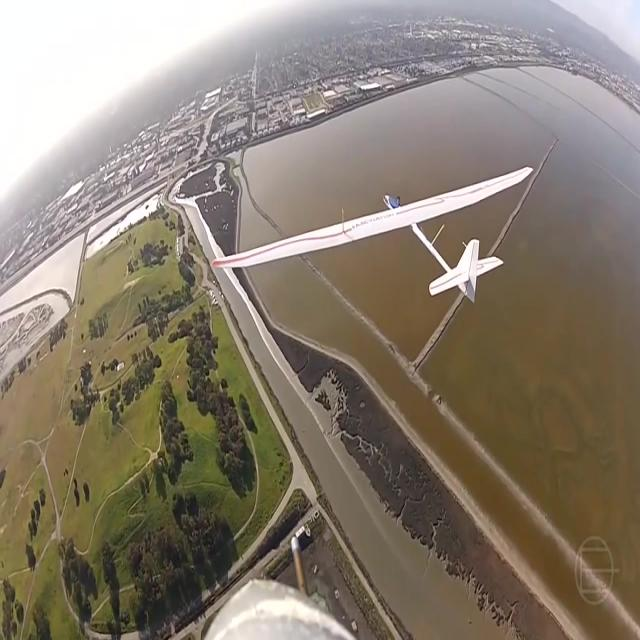iha: (211, 162, 534, 305)
